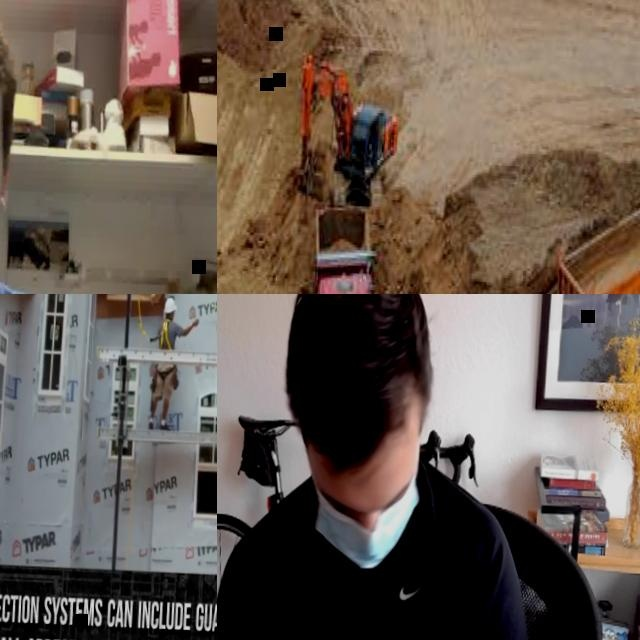Hardhat: (163, 298, 176, 315)
Mask: (307, 475, 422, 572)
NO-Hardhat: (274, 294, 439, 464)
NO-Mask: (170, 316, 174, 321)
NO-Safety Vest: (237, 465, 485, 640), (158, 320, 176, 350)
Person: (217, 294, 559, 640), (0, 0, 131, 294), (147, 297, 201, 432)
machinery: (290, 49, 402, 209), (543, 146, 640, 294), (297, 198, 389, 294)
